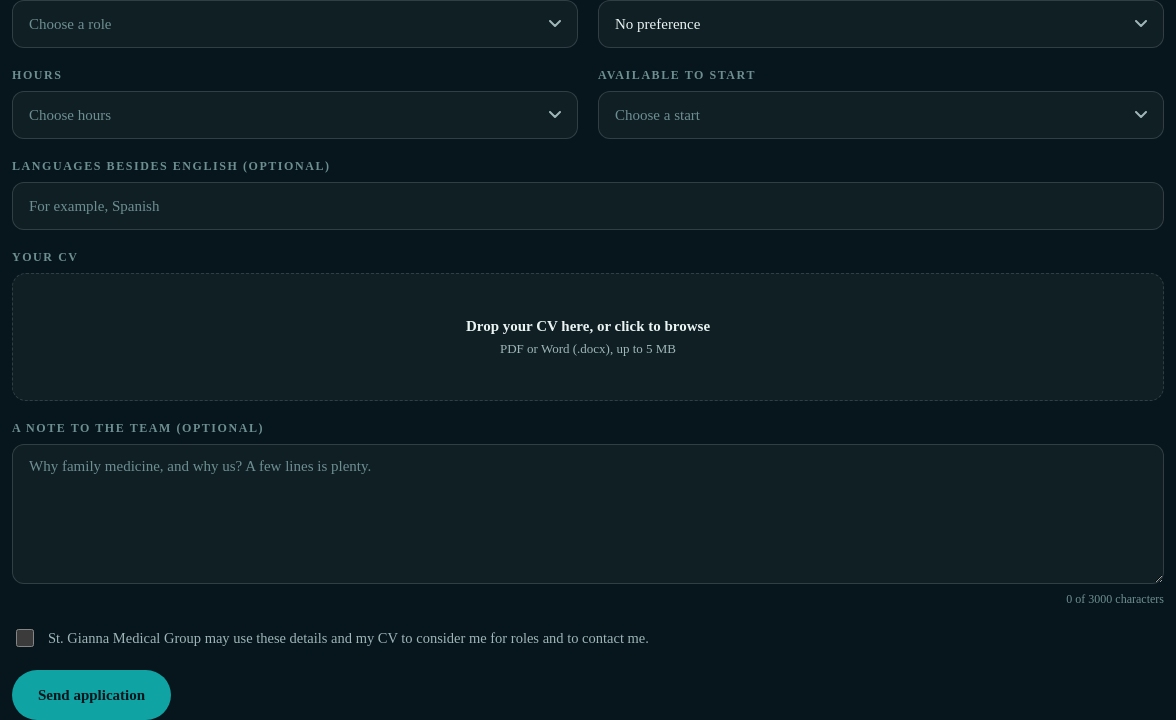
Test: CareersForm › counts characters in the note
This screenshot has width=1176, height=720.
(page scrolled)
Type "Hello" into the text box labelled "A note to the team (optional)" at (588, 514), box [12,444,1164,584]
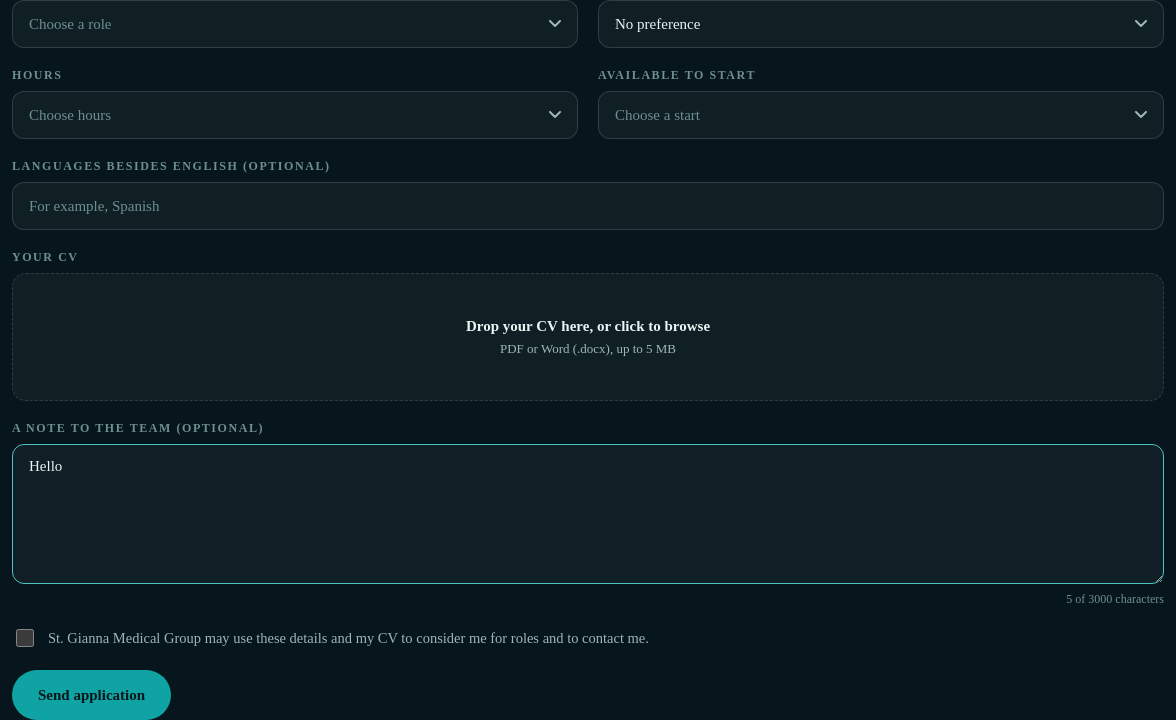
Expected: the text "5 of 3000 characters" is shown, [1066,592,1164,607]
